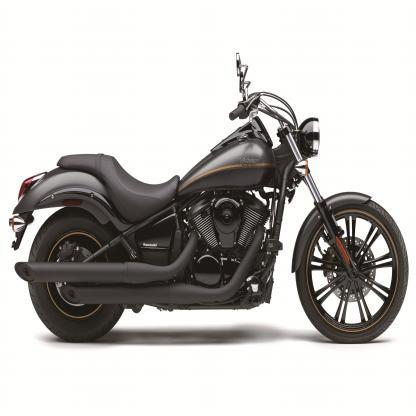Motorcycle: (9, 46, 413, 354)
